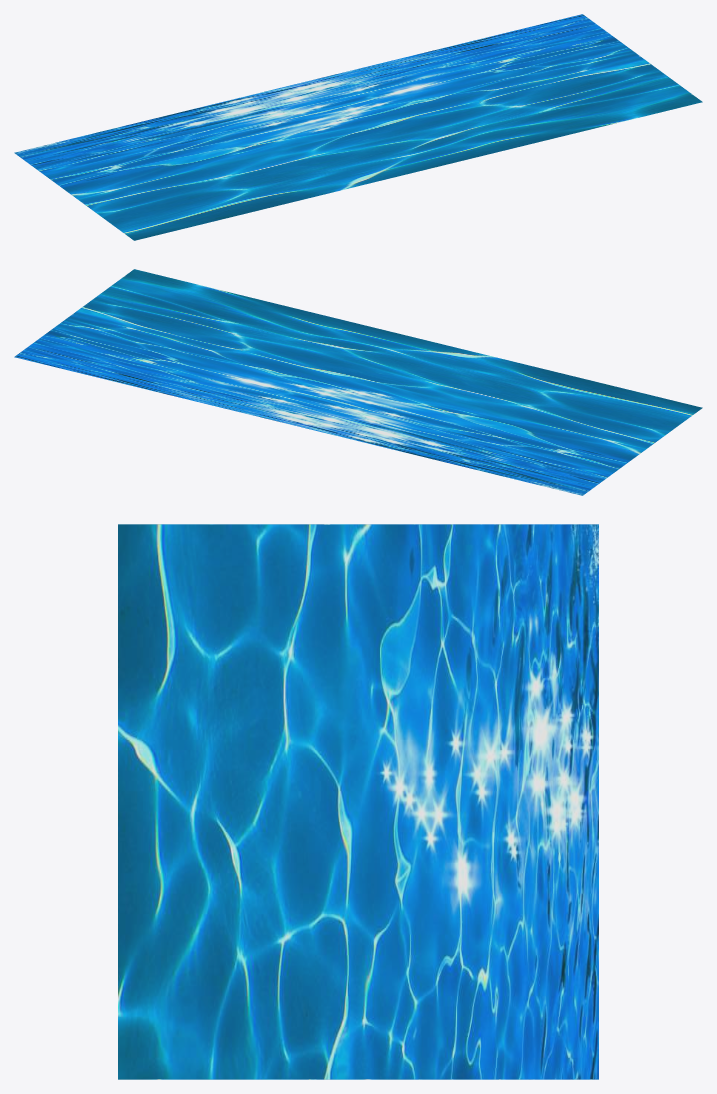
The model's file is water.DAE.
The picture shows the model from 3 angles, top to bottom: view 1: azimuth 30°, elevation 25°; view 2: azimuth 150°, elevation 25°; view 3: azimuth 270°, elevation 25°; orthographic projection. The views are drawn at different scales.
Parts seen in each view (by area): view 1: ____; view 2: ____; view 3: ____.
Part boxes in pixels (bbox=[...]): ____: bbox=[14, 14, 702, 240]; ____: bbox=[14, 269, 702, 495]; ____: bbox=[118, 524, 598, 1079].
Bounding box in the file's own units: 213 × 78.06 × 0.
Materials: 1 (1 with a texture image).
